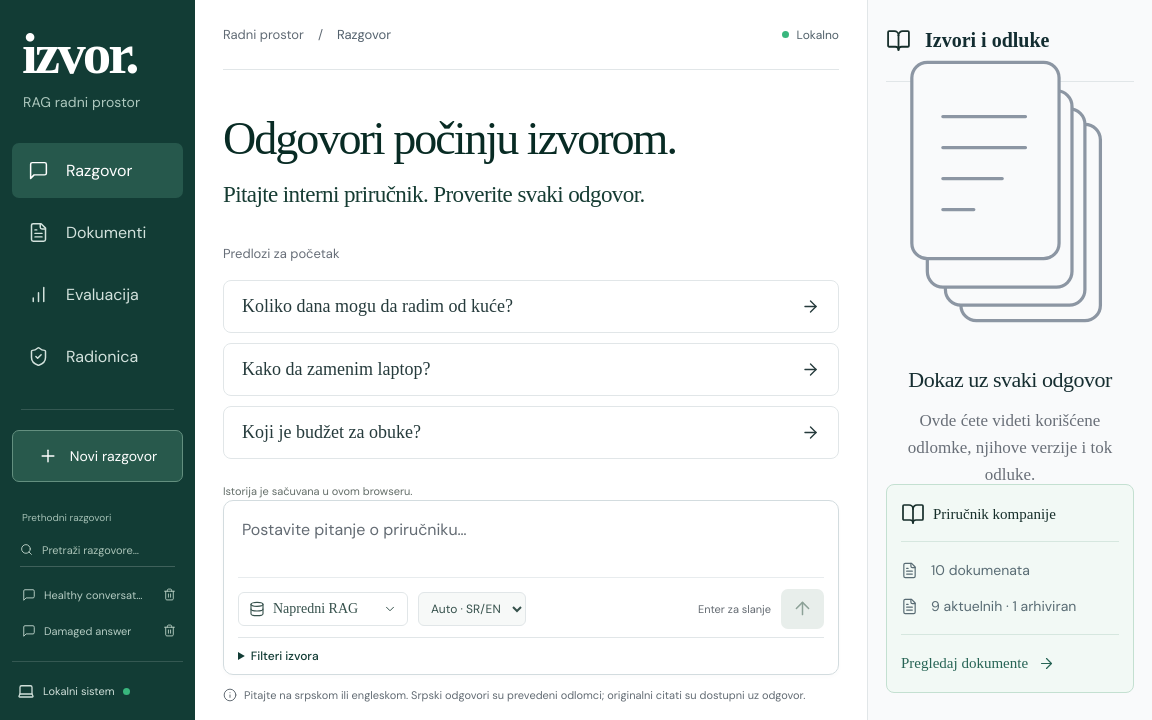
Test: real UI contracts › keeps healthy history when another saved entry or citation is corrupt
The width and height of the screenshot is (1152, 720).
Expected: the button "Healthy conversation" is shown, [12,577,153,613]
Click the button "Damaged answer" at (82, 631), box [12,613,153,649]
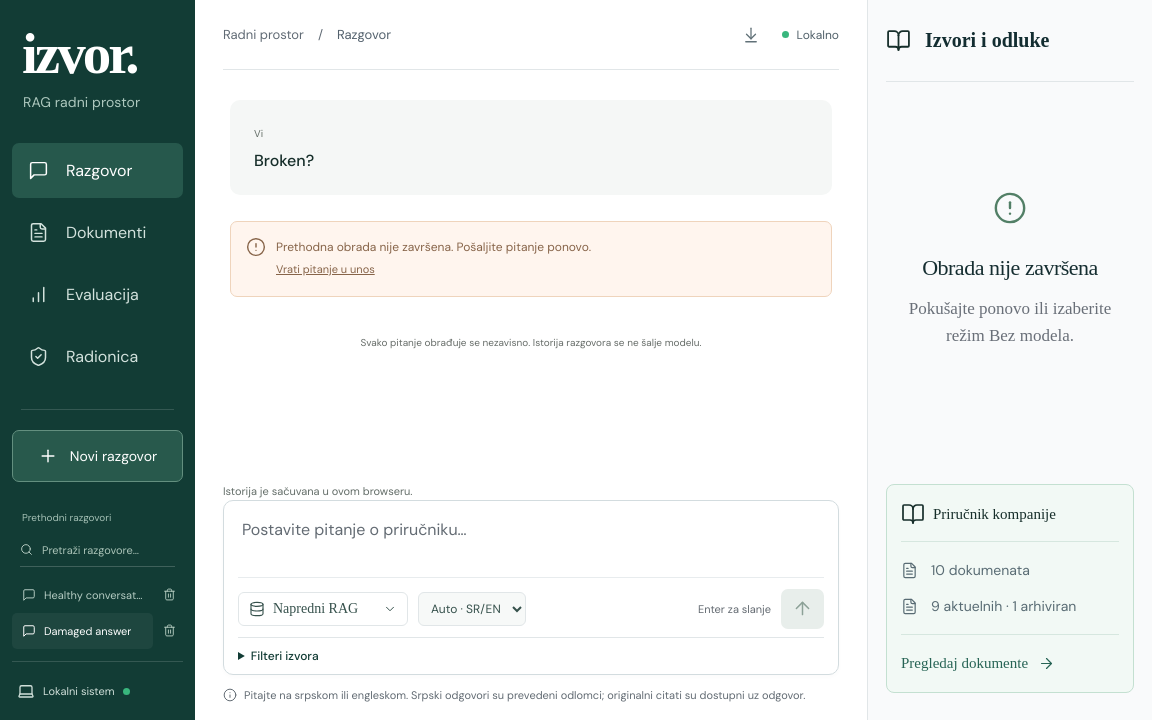
Result: the message "Prethodna obrada nije završena. Pošaljite pitanje ponovo. Vrati pitanje u unos" is shown at [230,221,832,297]
